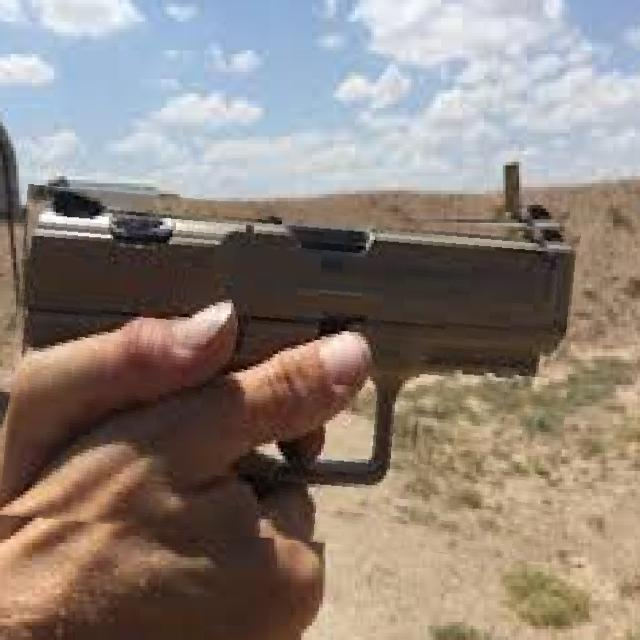Gun_Holder: (12, 168, 640, 640)
